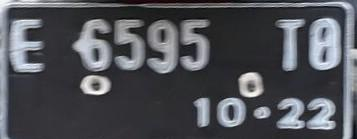clone-license-plate: (2, 1, 352, 137)
